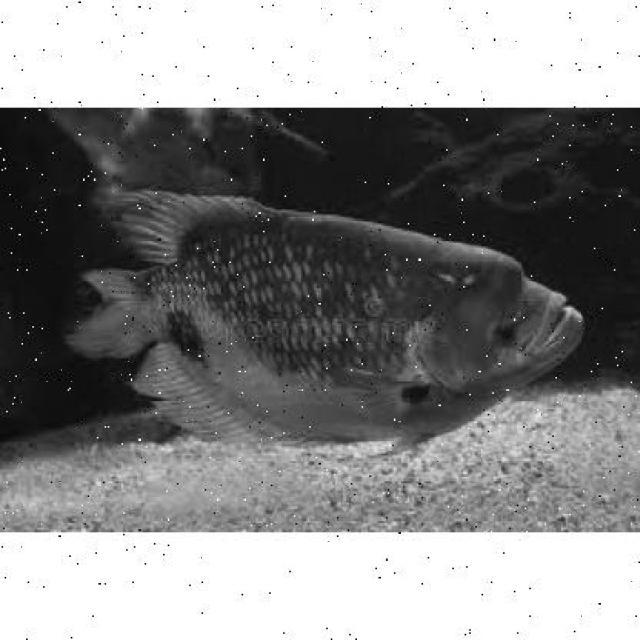gurame: (95, 187, 582, 458)
